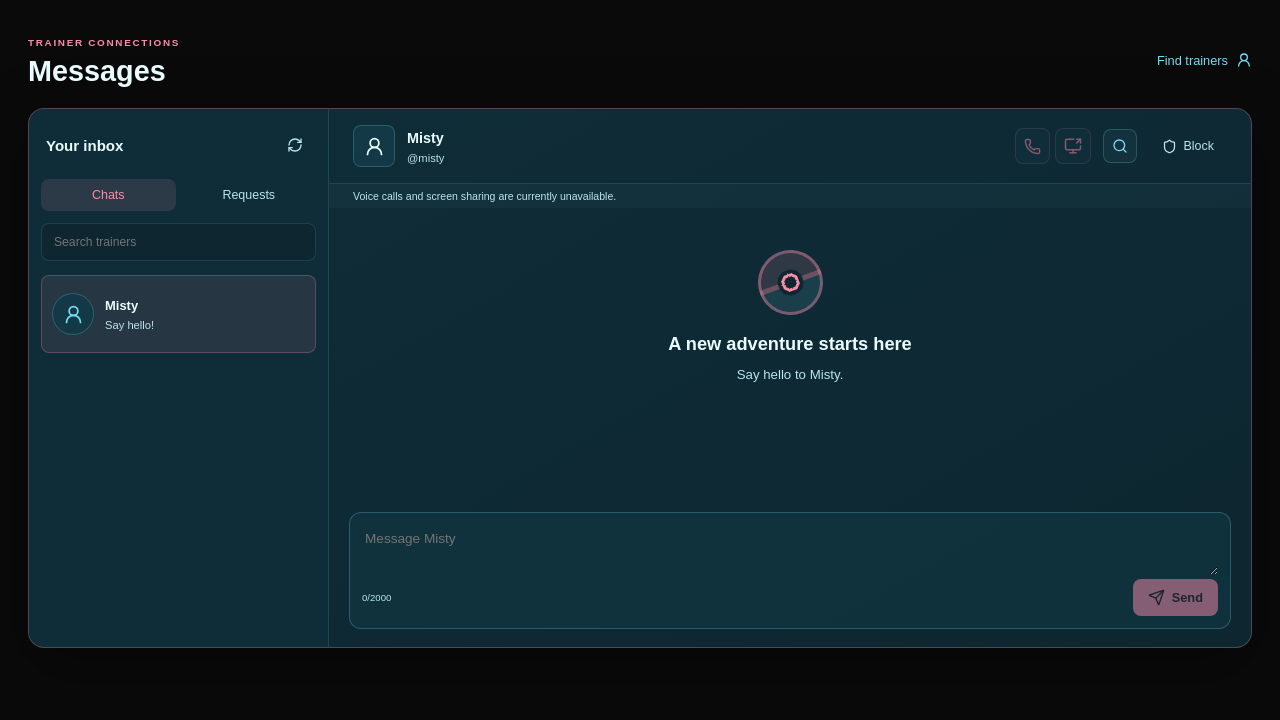
messages inbox › keeps an unsent draft after failure and renders messages as text
Type "<script>hello</script>" into the text box labelled "Message Misty" at (790, 550), box top-left (362, 525), bottom-right (1218, 575)
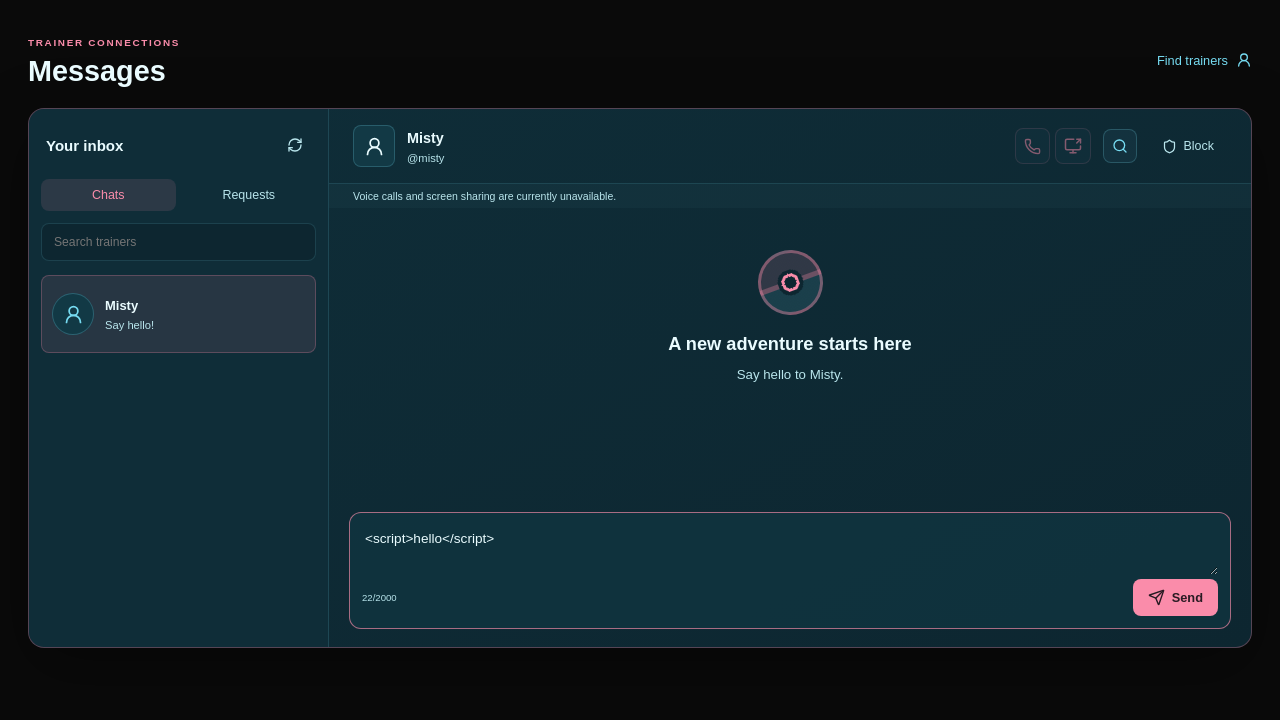
Click the button with aria-label "Send message" at (1175, 598), box top-left (1133, 579), bottom-right (1218, 616)
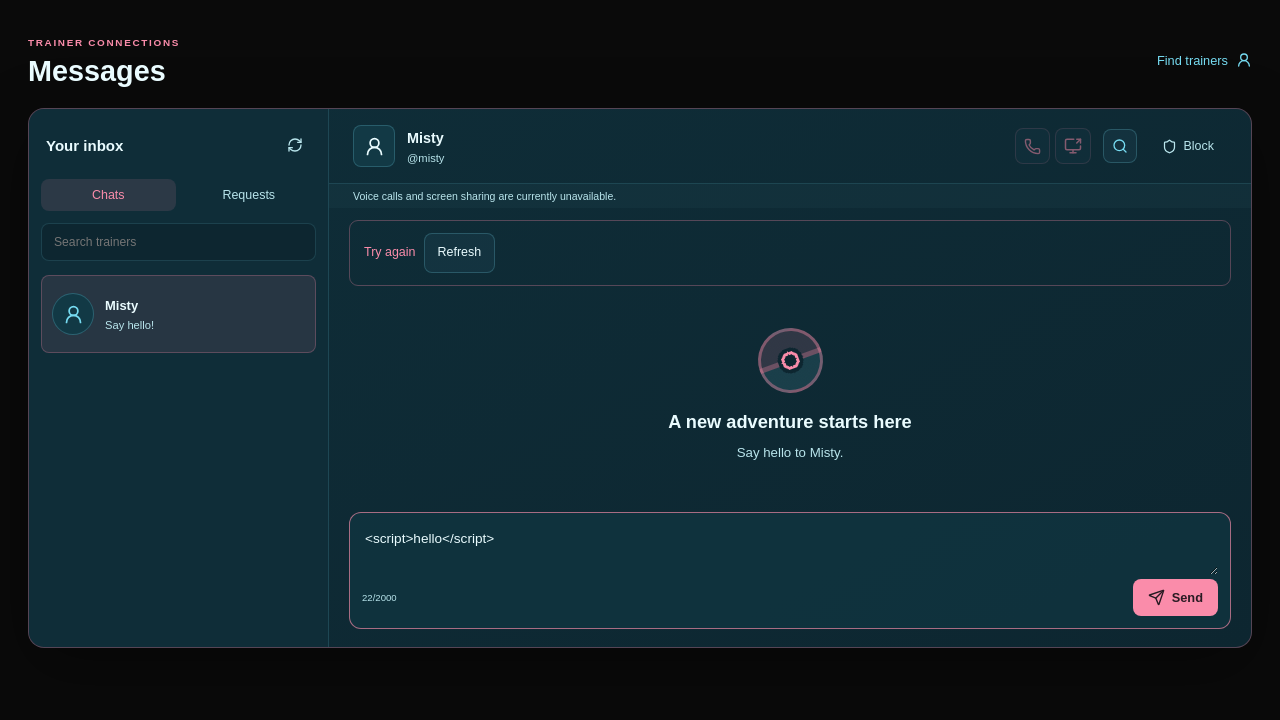
Now the message "Try again Refresh" is shown, box top-left (349, 220), bottom-right (1231, 286)
Click the button with aria-label "Send message" at (1175, 598), box top-left (1133, 579), bottom-right (1218, 616)
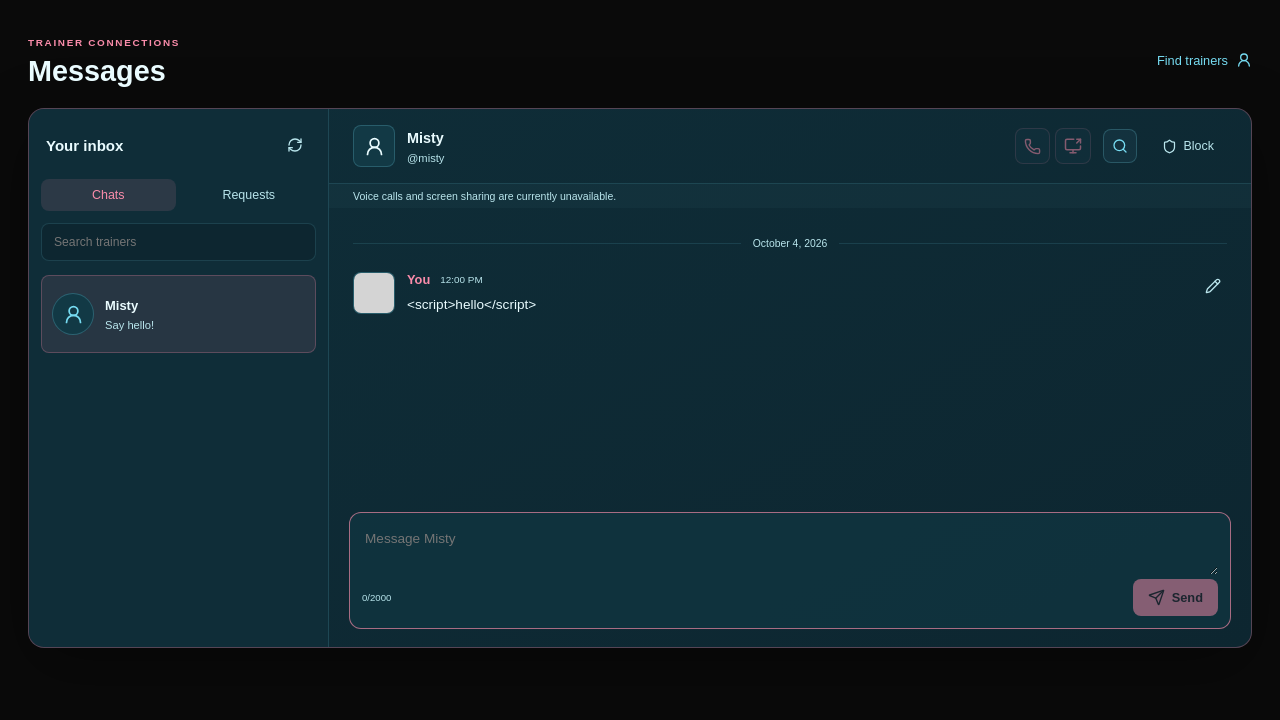
Now the text box labelled "Message Misty" is empty, box top-left (362, 525), bottom-right (1218, 575)
Now the text "<script>hello</script>" is shown, box top-left (407, 297), bottom-right (536, 312)
